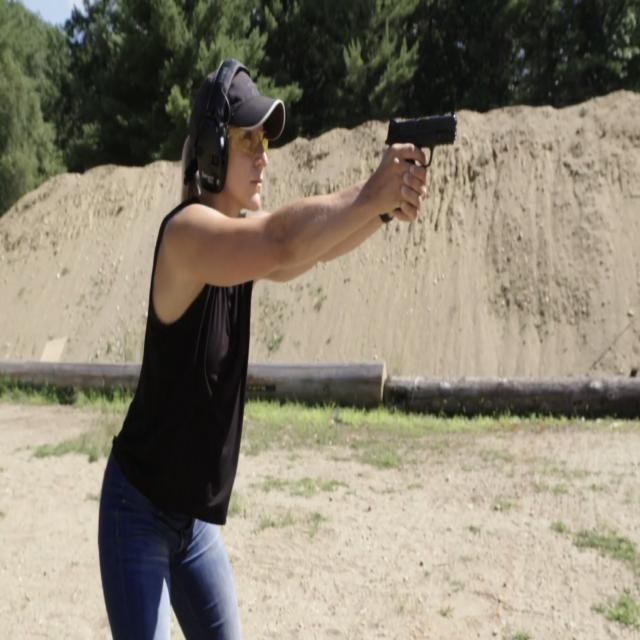Gun_Holder: (369, 109, 453, 213)
Person: (89, 45, 392, 596)
